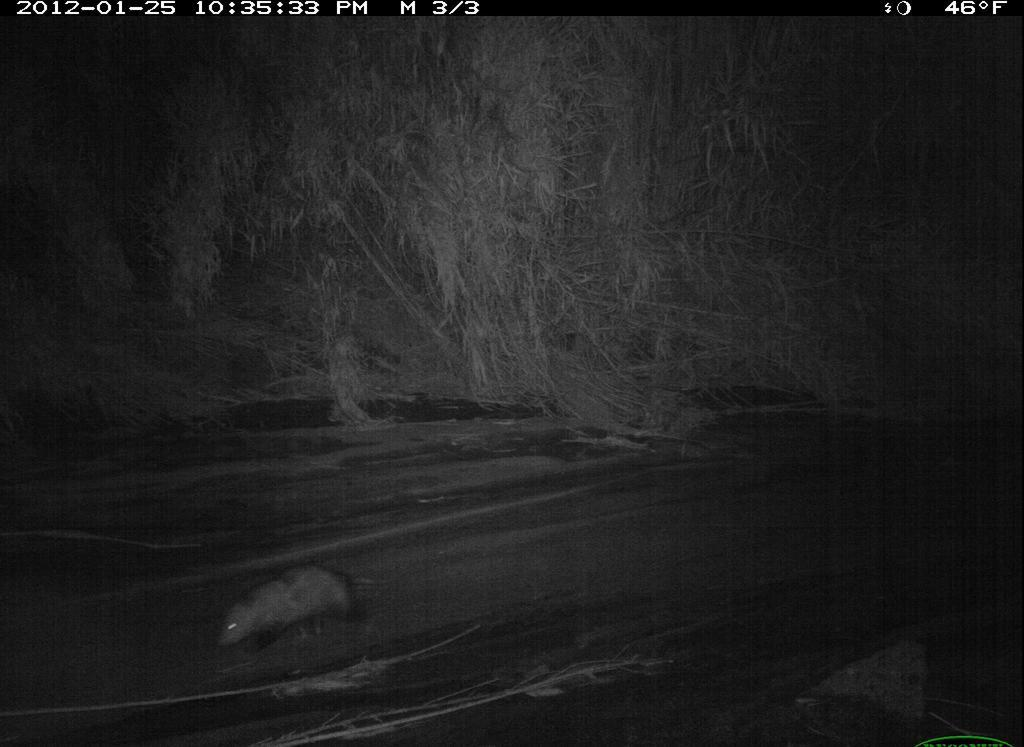opossum: (186, 528, 417, 679)
